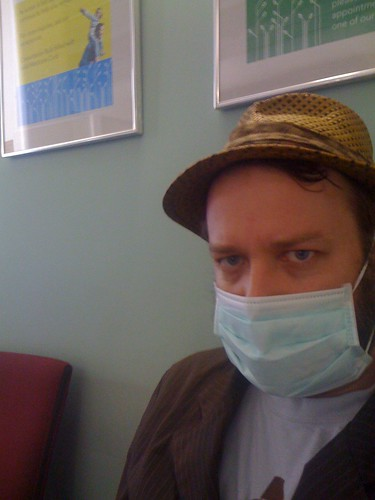mask: (211, 282, 375, 400)
